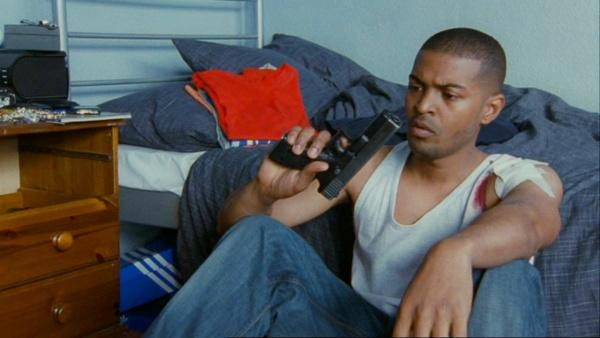Gun: (270, 109, 403, 200)
